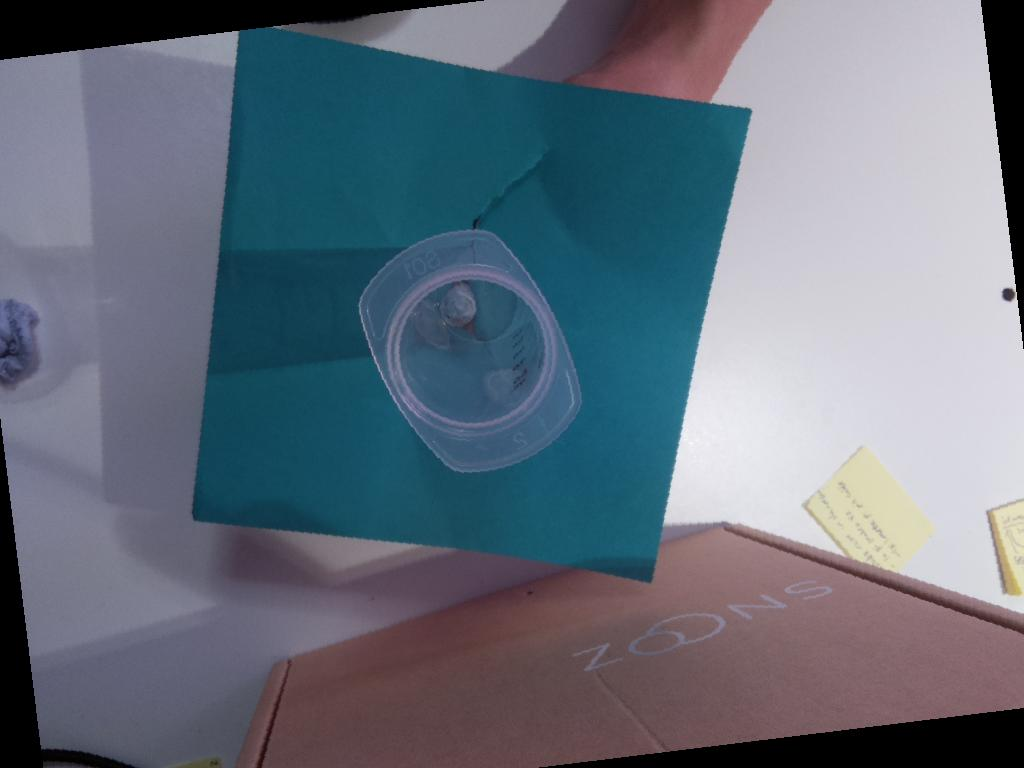clean: (357, 226, 584, 476)
